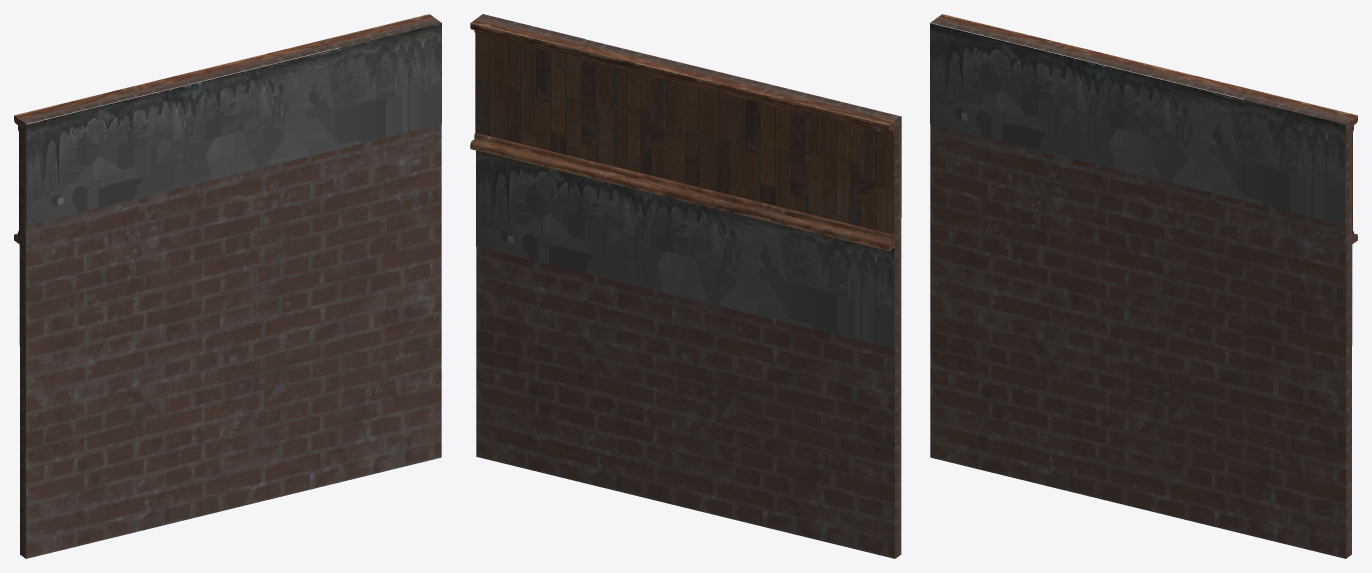
The model's file is Kit_BricksOldWoodEmpty03.fbx.
3 views of the same model, side by side, from view 1: azimuth 30°, elevation 25°; view 2: azimuth 150°, elevation 25°; view 3: azimuth 330°, elevation 25° (orthographic).
Visible parts, largest first — view 1: Kit_BricksOldWoodEmpty03; view 2: Kit_BricksOldWoodEmpty03; view 3: Kit_BricksOldWoodEmpty03.
Boxes of the visible parts, x1,y1,x2,y2 form: Kit_BricksOldWoodEmpty03: (14, 14, 441, 558); Kit_BricksOldWoodEmpty03: (470, 14, 901, 558); Kit_BricksOldWoodEmpty03: (930, 14, 1357, 558).
Bounding box in the file's own units: 157 × 157 × 8.1.
